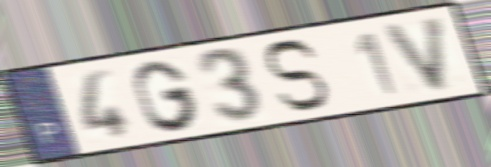1: (354, 29, 399, 97)
3: (200, 45, 263, 127)
4: (78, 67, 134, 141)
G: (130, 58, 202, 134)
S: (260, 37, 331, 114)
V: (380, 13, 449, 95)
